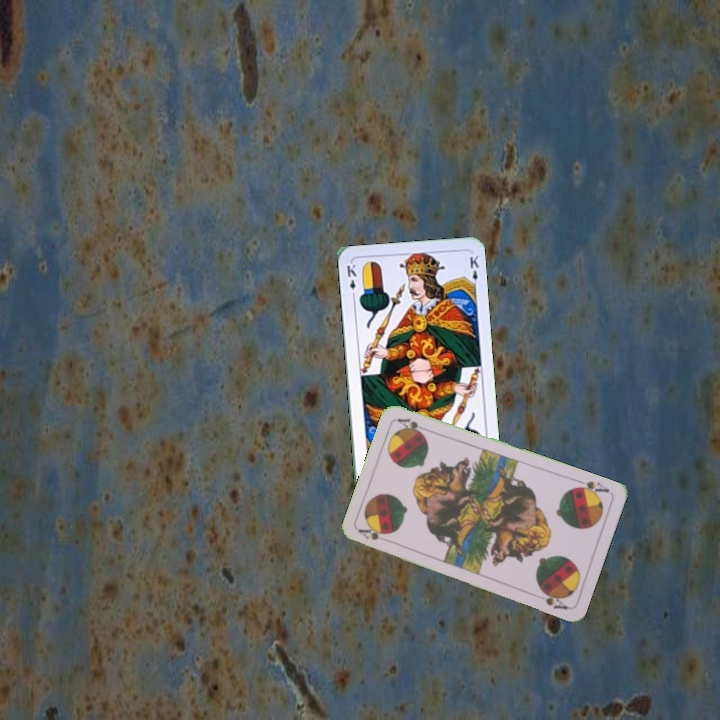EK: (343, 260, 359, 301)
SA: (571, 476, 612, 499), (355, 525, 394, 545)
